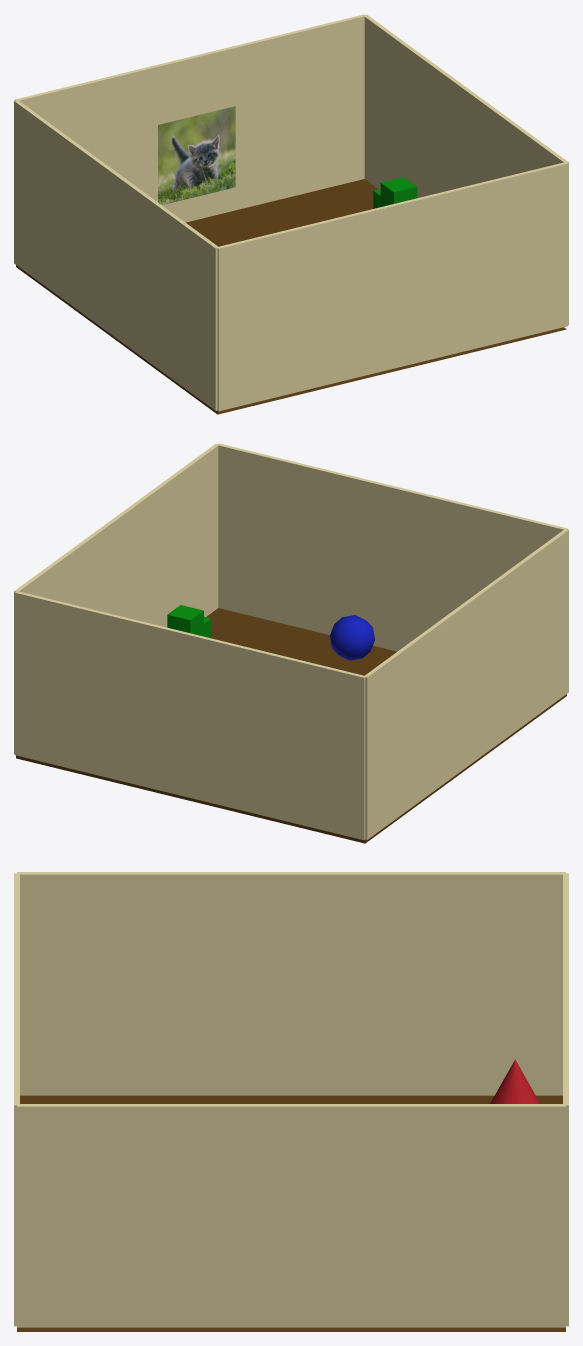
The picture shows the model from 3 angles, top to bottom: view 1: azimuth 30°, elevation 25°; view 2: azimuth 150°, elevation 25°; view 3: azimuth 270°, elevation 25°; orthographic projection. The views are drawn at different scales.
Parts seen in each view (by area): view 1: South Wall, North Wall, West Wall, East Wall, Floor, Plane, Doodad; view 2: North Wall, South Wall, West Wall, East Wall, Floor, Sphere, Doodad; view 3: East Wall, West Wall, Floor, South Wall, North Wall, Cone.
Part boxes in pixels (left/top/right/bottom): South Wall: left=217, top=162, right=568, bottom=411; North Wall: left=14, top=14, right=364, bottom=222; West Wall: left=14, top=100, right=217, bottom=410; East Wall: left=364, top=15, right=568, bottom=324; Floor: left=16, top=179, right=566, bottom=414; Plane: left=158, top=106, right=235, bottom=205; Doodad: left=373, top=177, right=417, bottom=208; North Wall: left=14, top=591, right=365, bottom=840; South Wall: left=217, top=443, right=568, bottom=651; West Wall: left=365, top=529, right=568, bottom=839; East Wall: left=14, top=444, right=218, bottom=753; Floor: left=16, top=608, right=566, bottom=843; Sphere: left=330, top=615, right=374, bottom=660; Doodad: left=167, top=605, right=211, bottom=638; East Wall: left=17, top=1104, right=565, bottom=1327; West Wall: left=17, top=872, right=565, bottom=1095; Floor: left=17, top=1095, right=565, bottom=1331; South Wall: left=14, top=873, right=19, bottom=1326; North Wall: left=563, top=873, right=568, bottom=1326; Cone: left=490, top=1059, right=540, bottom=1103.
Size of what is drawn, in the model's own units: 9.1 by 4.1 by 9.1.
Materials: 6 (1 with a texture image).
